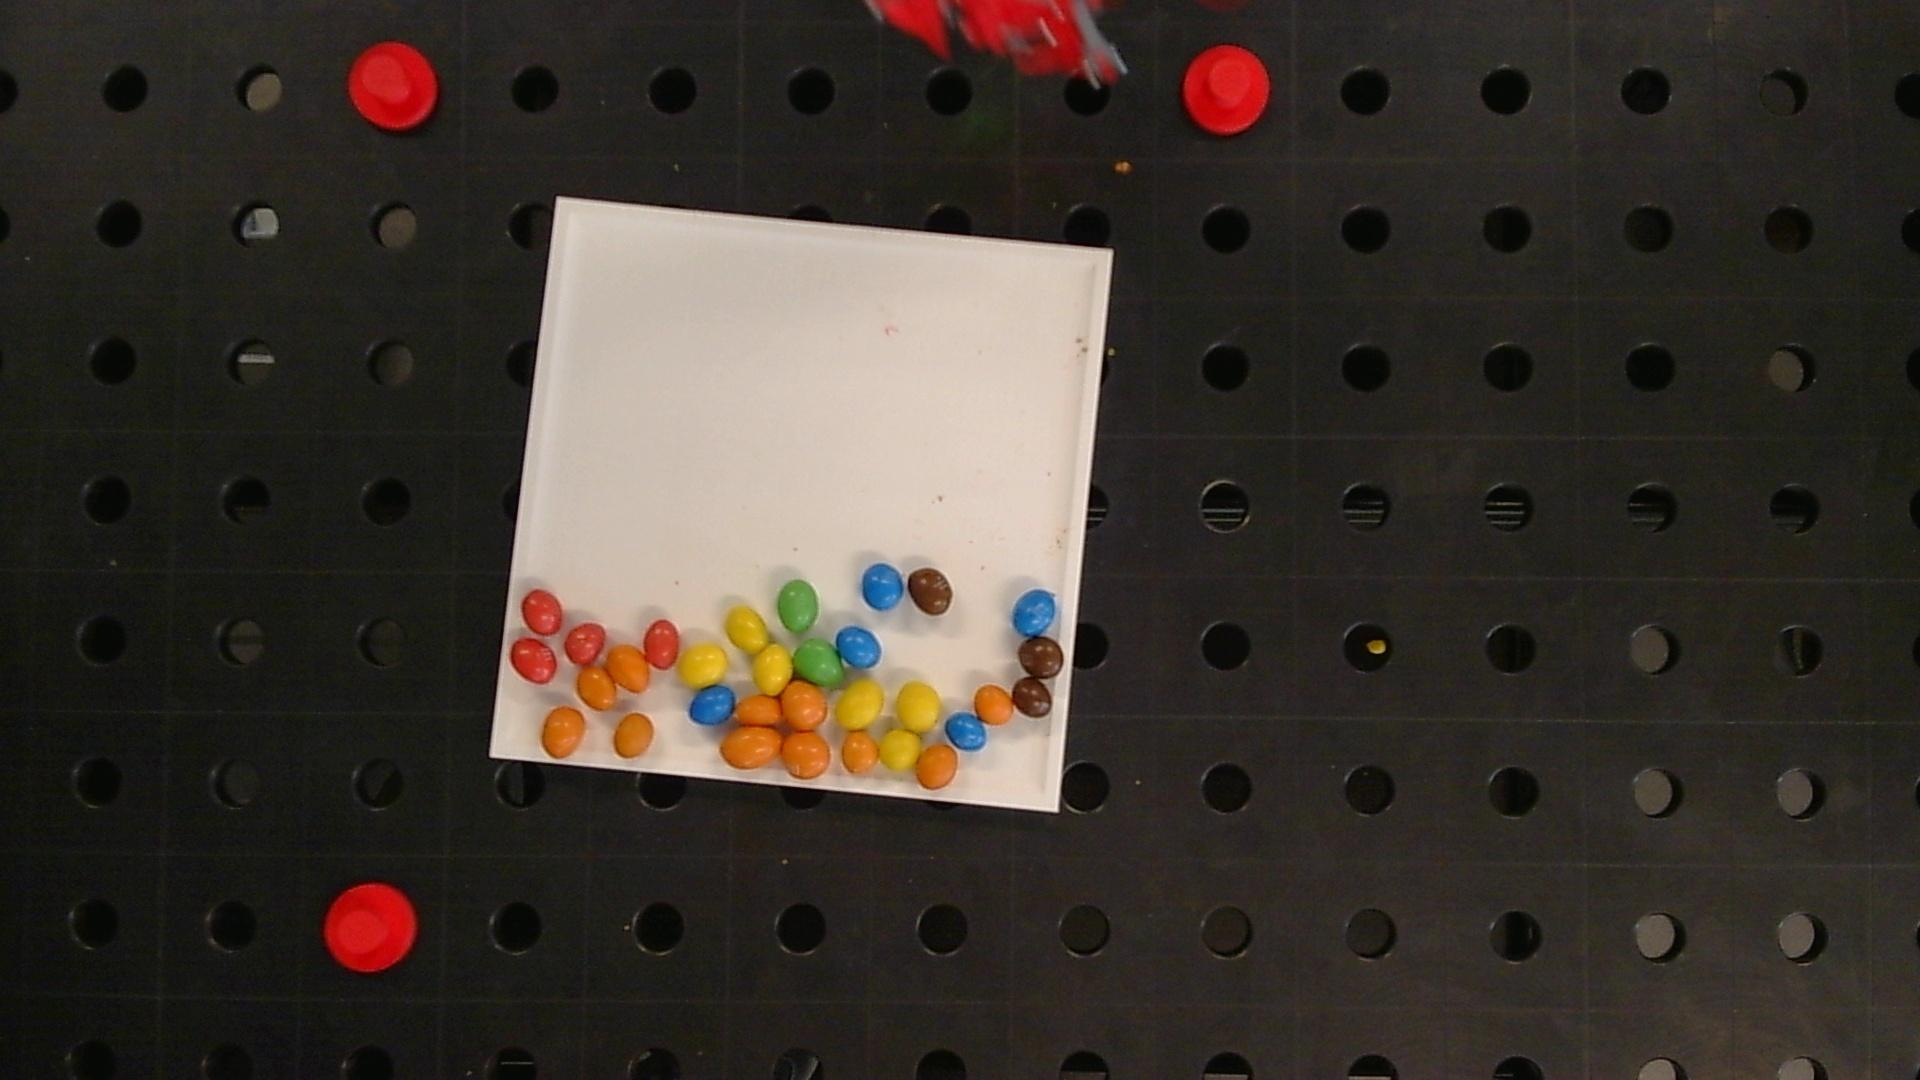blue: (836, 626, 882, 670), (1013, 589, 1056, 636), (862, 563, 905, 611), (690, 684, 736, 725), (945, 713, 986, 750)
brown: (907, 567, 953, 616), (1019, 638, 1064, 679), (1011, 678, 1054, 717)
green: (794, 640, 844, 686), (777, 579, 819, 633)
orange: (721, 727, 782, 769), (782, 732, 831, 778), (542, 705, 585, 757), (782, 682, 827, 729), (607, 645, 650, 692), (915, 742, 957, 789), (613, 713, 654, 757), (578, 666, 616, 711), (975, 684, 1014, 725), (841, 732, 880, 774), (737, 695, 782, 725)
red: (510, 638, 556, 684), (521, 589, 563, 634), (644, 618, 679, 669), (564, 621, 605, 665)
yellow: (836, 680, 884, 729), (895, 682, 940, 732), (679, 644, 728, 687), (753, 645, 793, 694), (727, 607, 767, 653), (880, 729, 920, 770)
